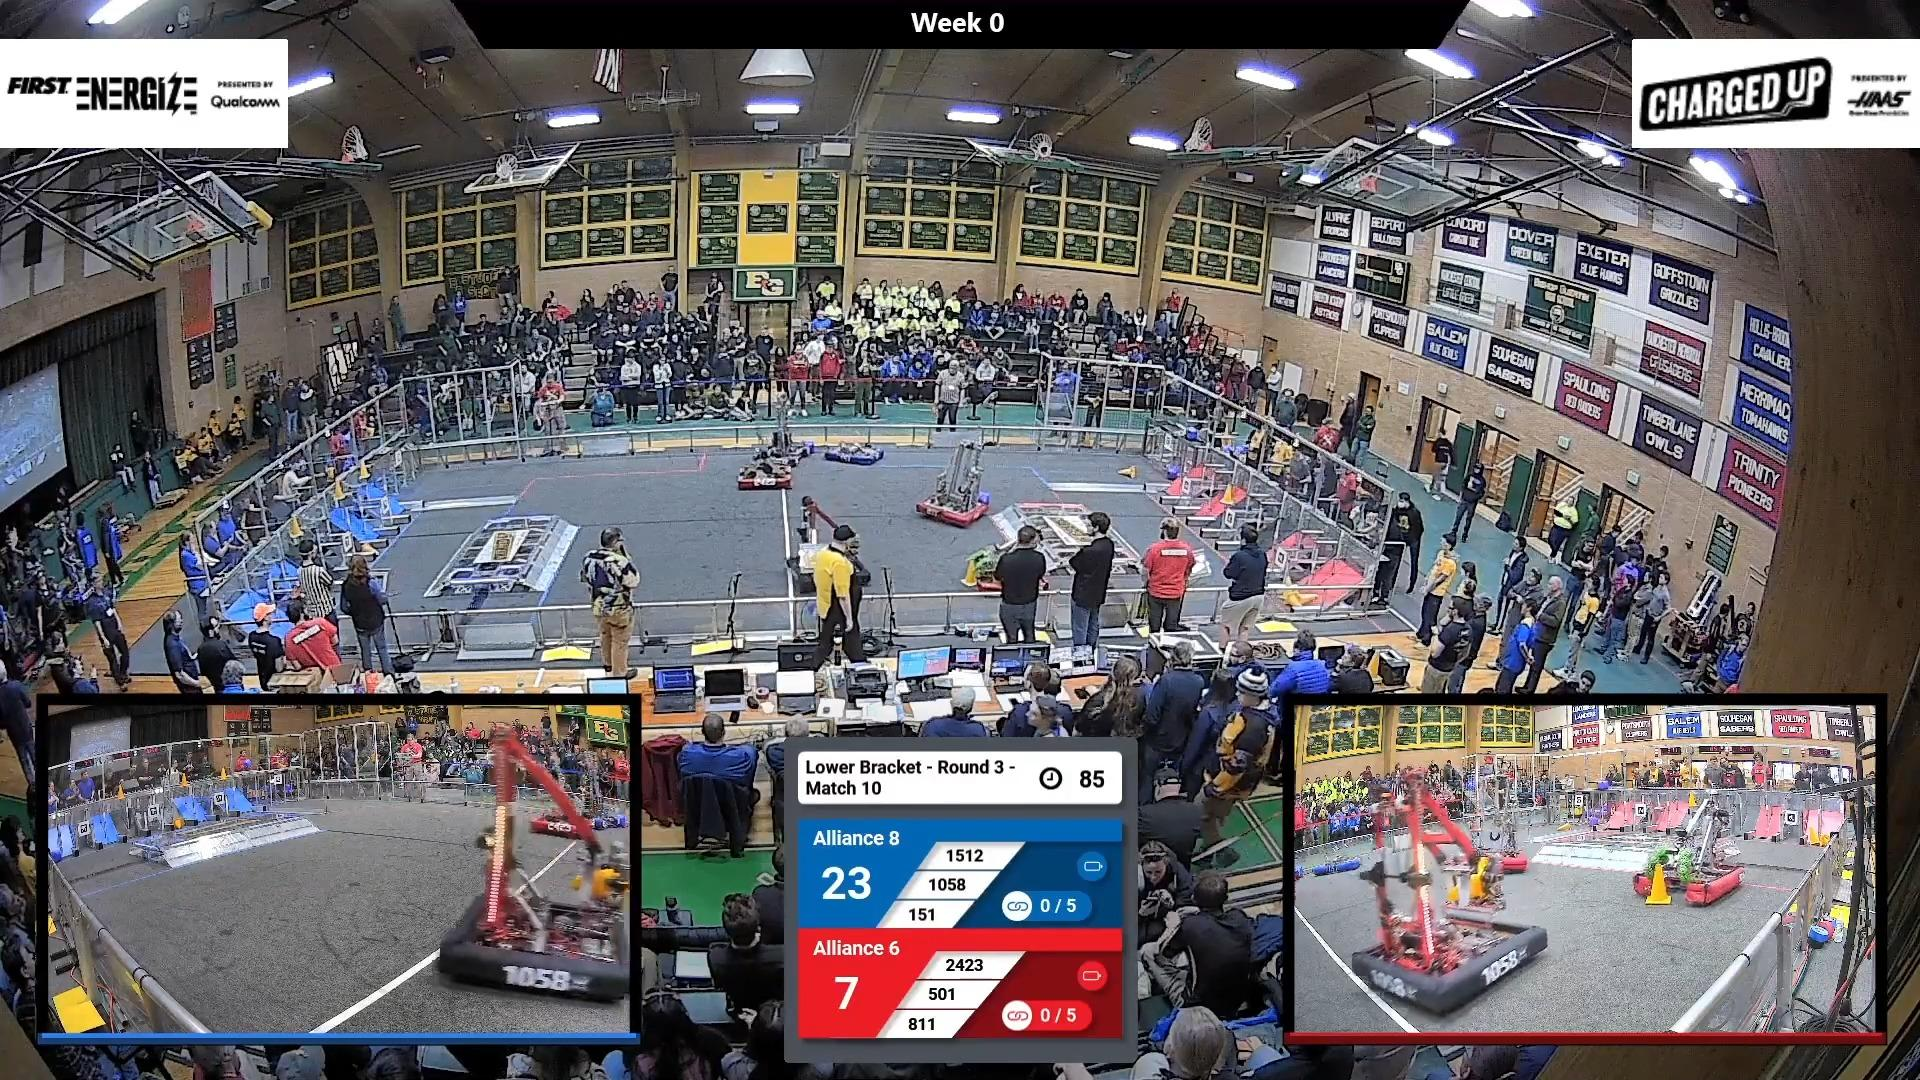robot: (786, 496, 876, 593), (910, 440, 998, 537), (967, 526, 1056, 595), (749, 401, 818, 467), (729, 442, 800, 501), (825, 422, 885, 475)
